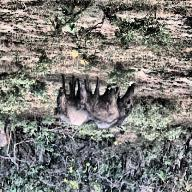boar: (73, 81, 123, 129), (105, 82, 141, 135), (53, 77, 87, 127)
